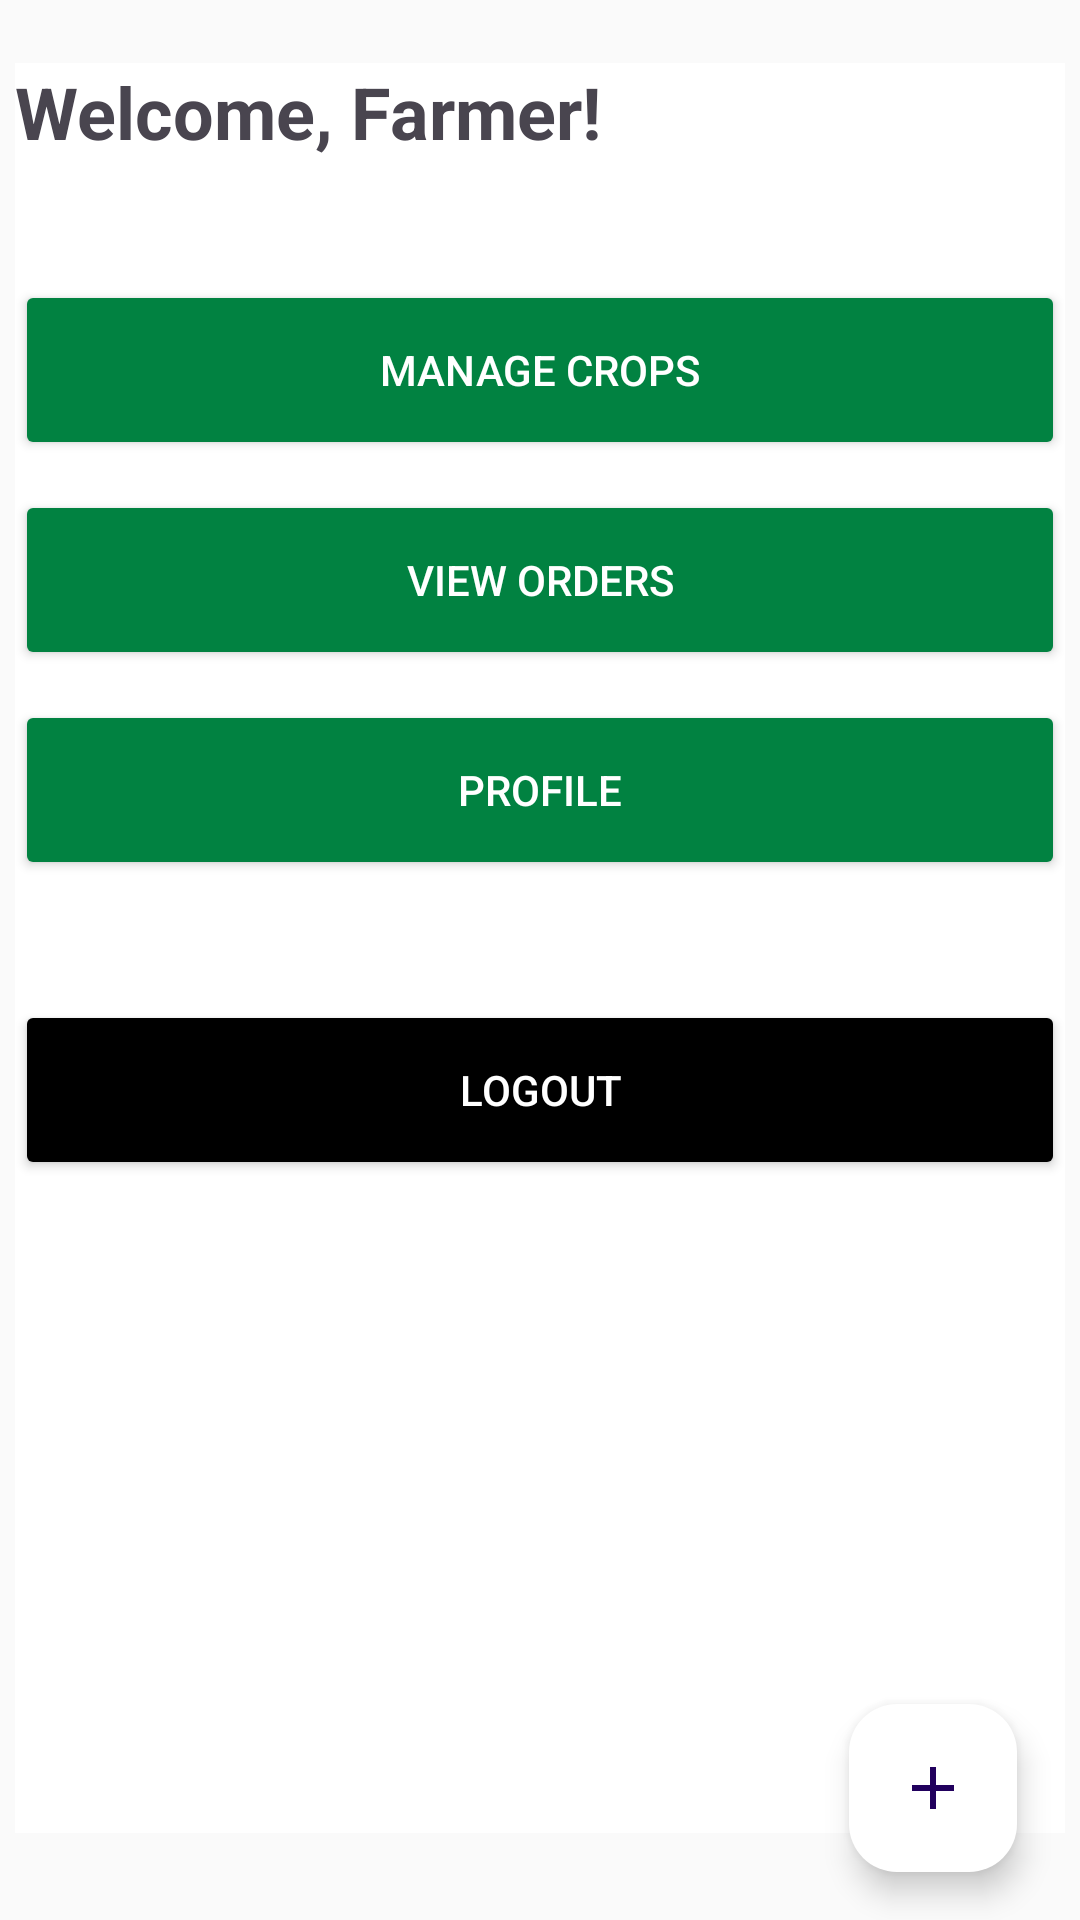

Named icons in this screenshot (1080x1920) and their bounding boxes, Rect(x1, y1, x2, y2):
Add: Rect(850, 1767, 1017, 1872)
